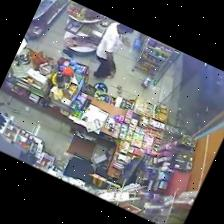person: (94, 23, 133, 78)
